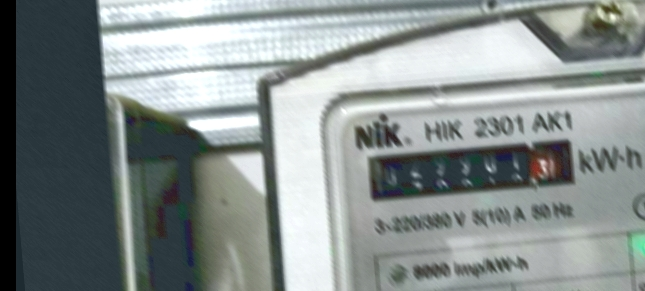0: (481, 150, 498, 176), (381, 164, 398, 187)
1: (508, 147, 522, 172)
2: (407, 157, 424, 180)
3: (534, 157, 551, 181)
9: (458, 154, 472, 178), (433, 155, 446, 177)
screen: (359, 131, 584, 212)
